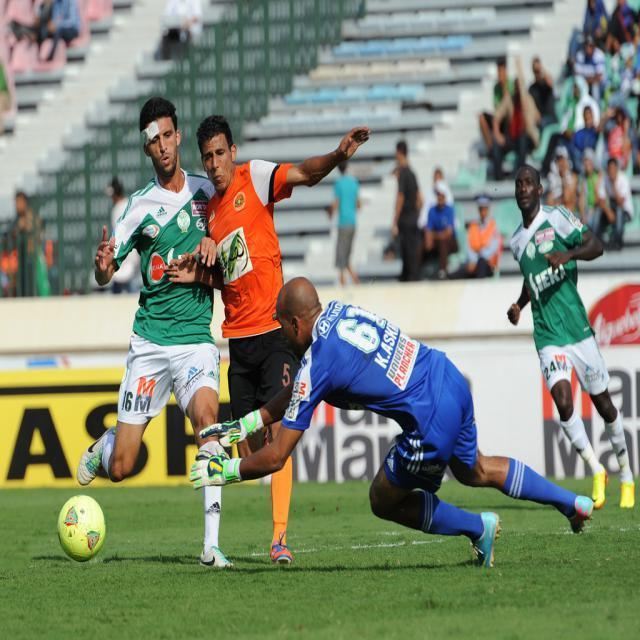football: (44, 485, 116, 567)
